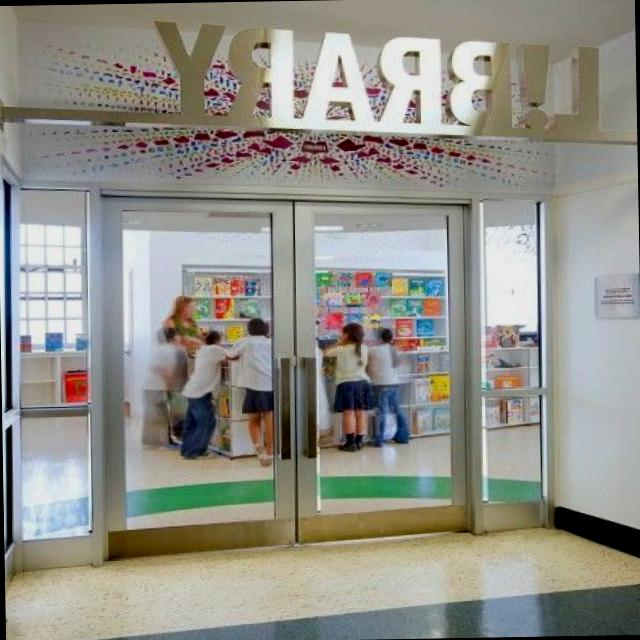door: (12, 180, 554, 570)
